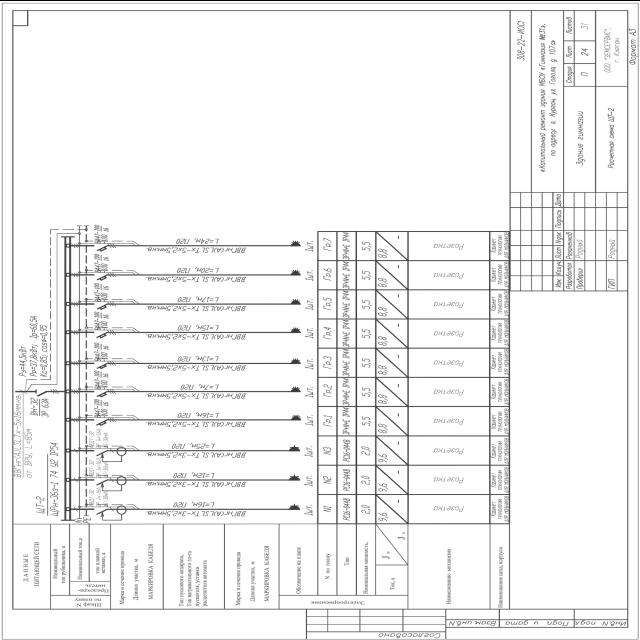-: (33, 440, 61, 516), (27, 396, 51, 418), (87, 486, 110, 506), (88, 457, 111, 477), (88, 428, 110, 448), (92, 223, 110, 242), (93, 252, 110, 272), (93, 310, 110, 329), (92, 282, 109, 300), (94, 342, 110, 360), (93, 370, 109, 388), (94, 398, 110, 416)
QF: (93, 416, 117, 426), (92, 388, 116, 398), (92, 360, 116, 370), (92, 329, 116, 339), (92, 300, 116, 310), (92, 272, 116, 282), (92, 242, 116, 252)
QFD: (94, 444, 128, 462), (92, 474, 126, 492), (92, 502, 126, 520)
QS: (34, 388, 48, 396)
